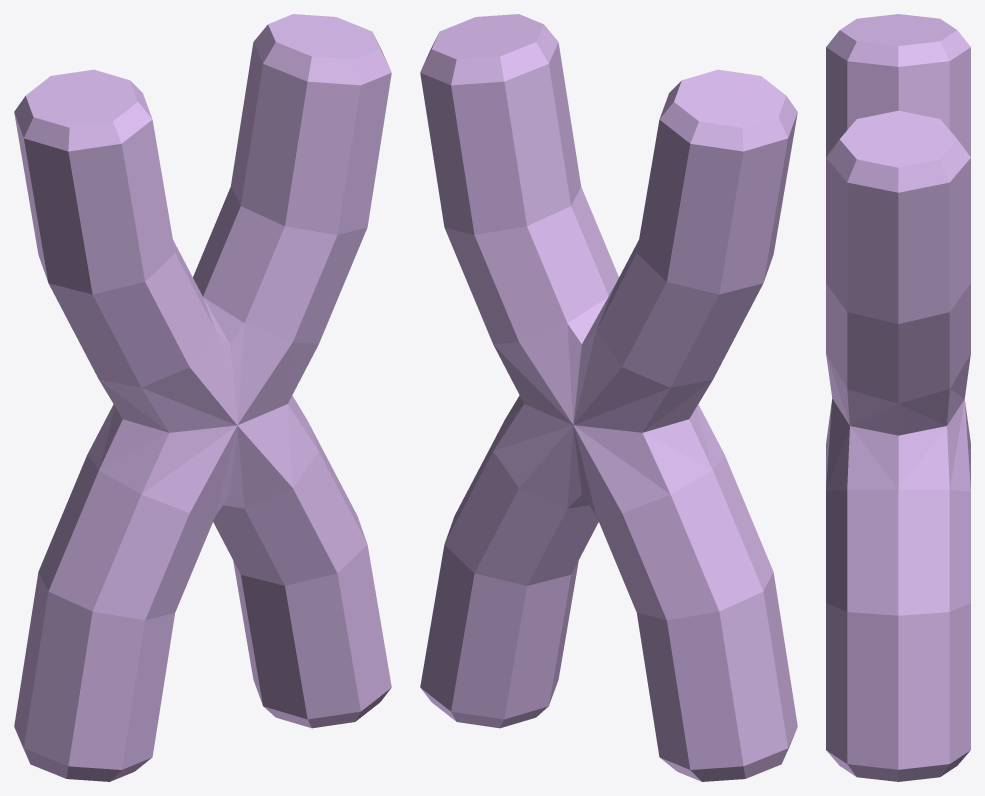
The model's file is Chromosome.fbx.
The picture shows the model from 3 angles, left to right: view 1: azimuth 30°, elevation 25°; view 2: azimuth 150°, elevation 25°; view 3: azimuth 270°, elevation 25°; orthographic projection. The views are drawn at different scales.
Visible parts, largest first — view 1: Chromosome; view 2: Chromosome; view 3: Chromosome.
Part boxes in pixels (box(x1,y1,x2,y2)): Chromosome: box(14, 14, 391, 781); Chromosome: box(420, 14, 797, 781); Chromosome: box(826, 14, 970, 781).
Bounding box in the file's own units: 1262 × 2275 × 468.
